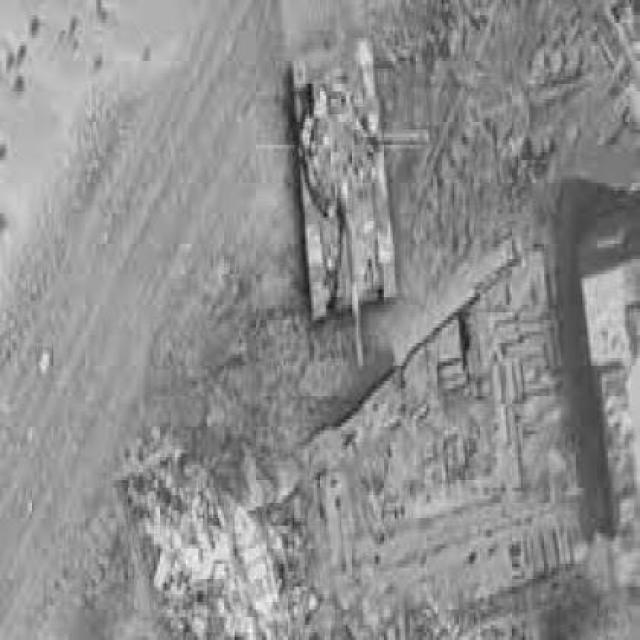tank: (283, 28, 404, 374)
